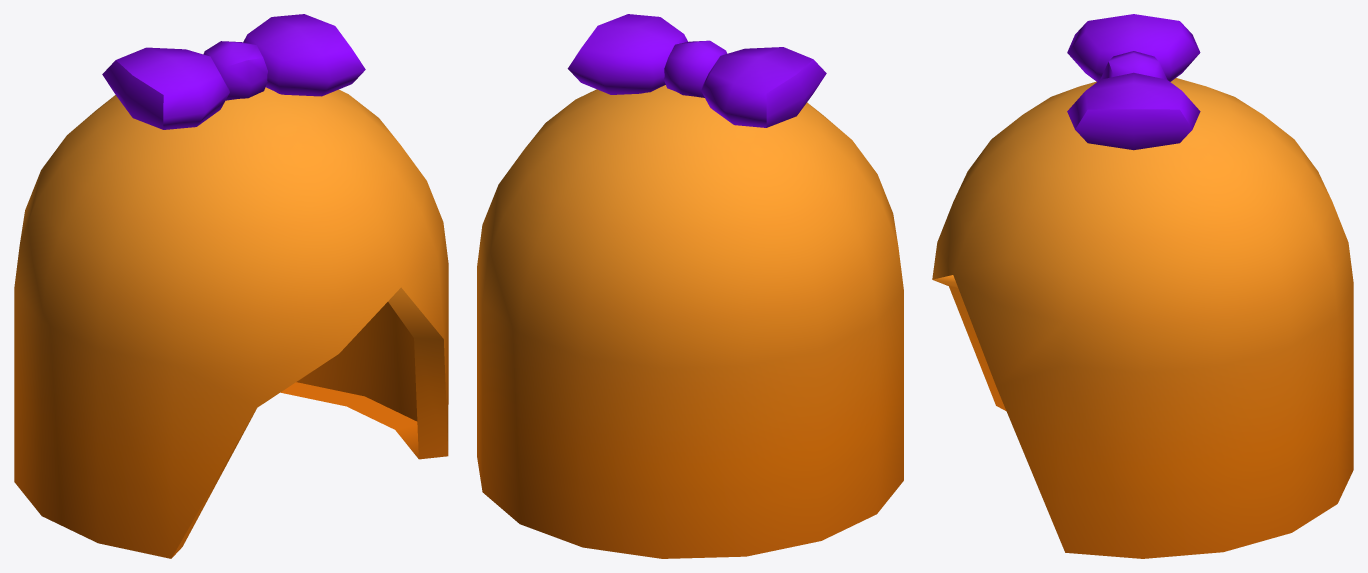
File: Hair_City_Pixie_01.fbx
The picture shows the model from 3 angles, left to right: view 1: azimuth 30°, elevation 25°; view 2: azimuth 150°, elevation 25°; view 3: azimuth 270°, elevation 25°; orthographic projection. The views are drawn at different scales.
Visible parts, largest first — view 1: Hair_City_Pixie_01; view 2: Hair_City_Pixie_01; view 3: Hair_City_Pixie_01.
Part boxes in pixels (<box>): Hair_City_Pixie_01: <box>14,14,448,558</box>; Hair_City_Pixie_01: <box>477,14,903,558</box>; Hair_City_Pixie_01: <box>932,14,1353,558</box>.
Size of the model in its own units: 118 by 128 by 117.
